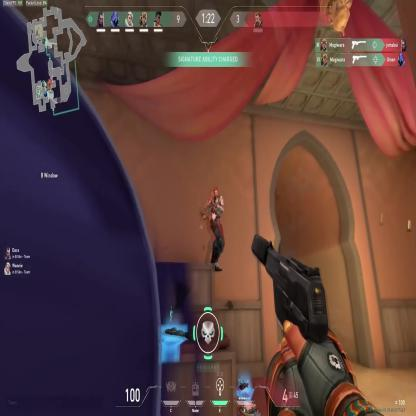enemy: (206, 186, 224, 274)
enemy_head: (212, 188, 220, 202)
